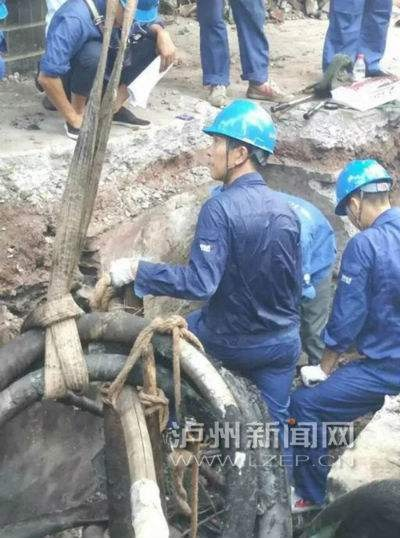blue: (199, 99, 279, 183), (332, 158, 394, 227)
